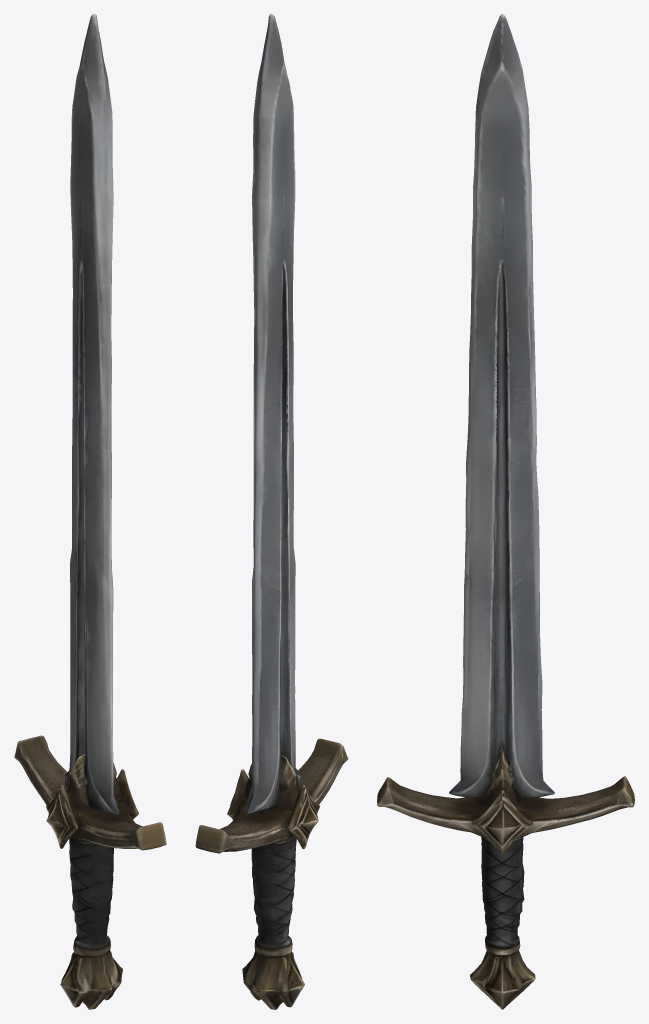
File: bronze_broadsword.glb
3 renders of one model, left to right at view 1: azimuth 30°, elevation 25°; view 2: azimuth 150°, elevation 25°; view 3: azimuth 270°, elevation 25°, orthographic.
Parts seen in each view (by area): view 1: bronze_broadsword; view 2: bronze_broadsword; view 3: bronze_broadsword.
Boxes of the visible parts, x1=… form: bronze_broadsword: x1=14, y1=14, x2=166, y2=1009; bronze_broadsword: x1=195, y1=14, x2=348, y2=1009; bronze_broadsword: x1=377, y1=14, x2=634, y2=1009.
Bounding box in the file's own units: 0.062 × 0.6799 × 0.1599.
1 material, 1 textured.
